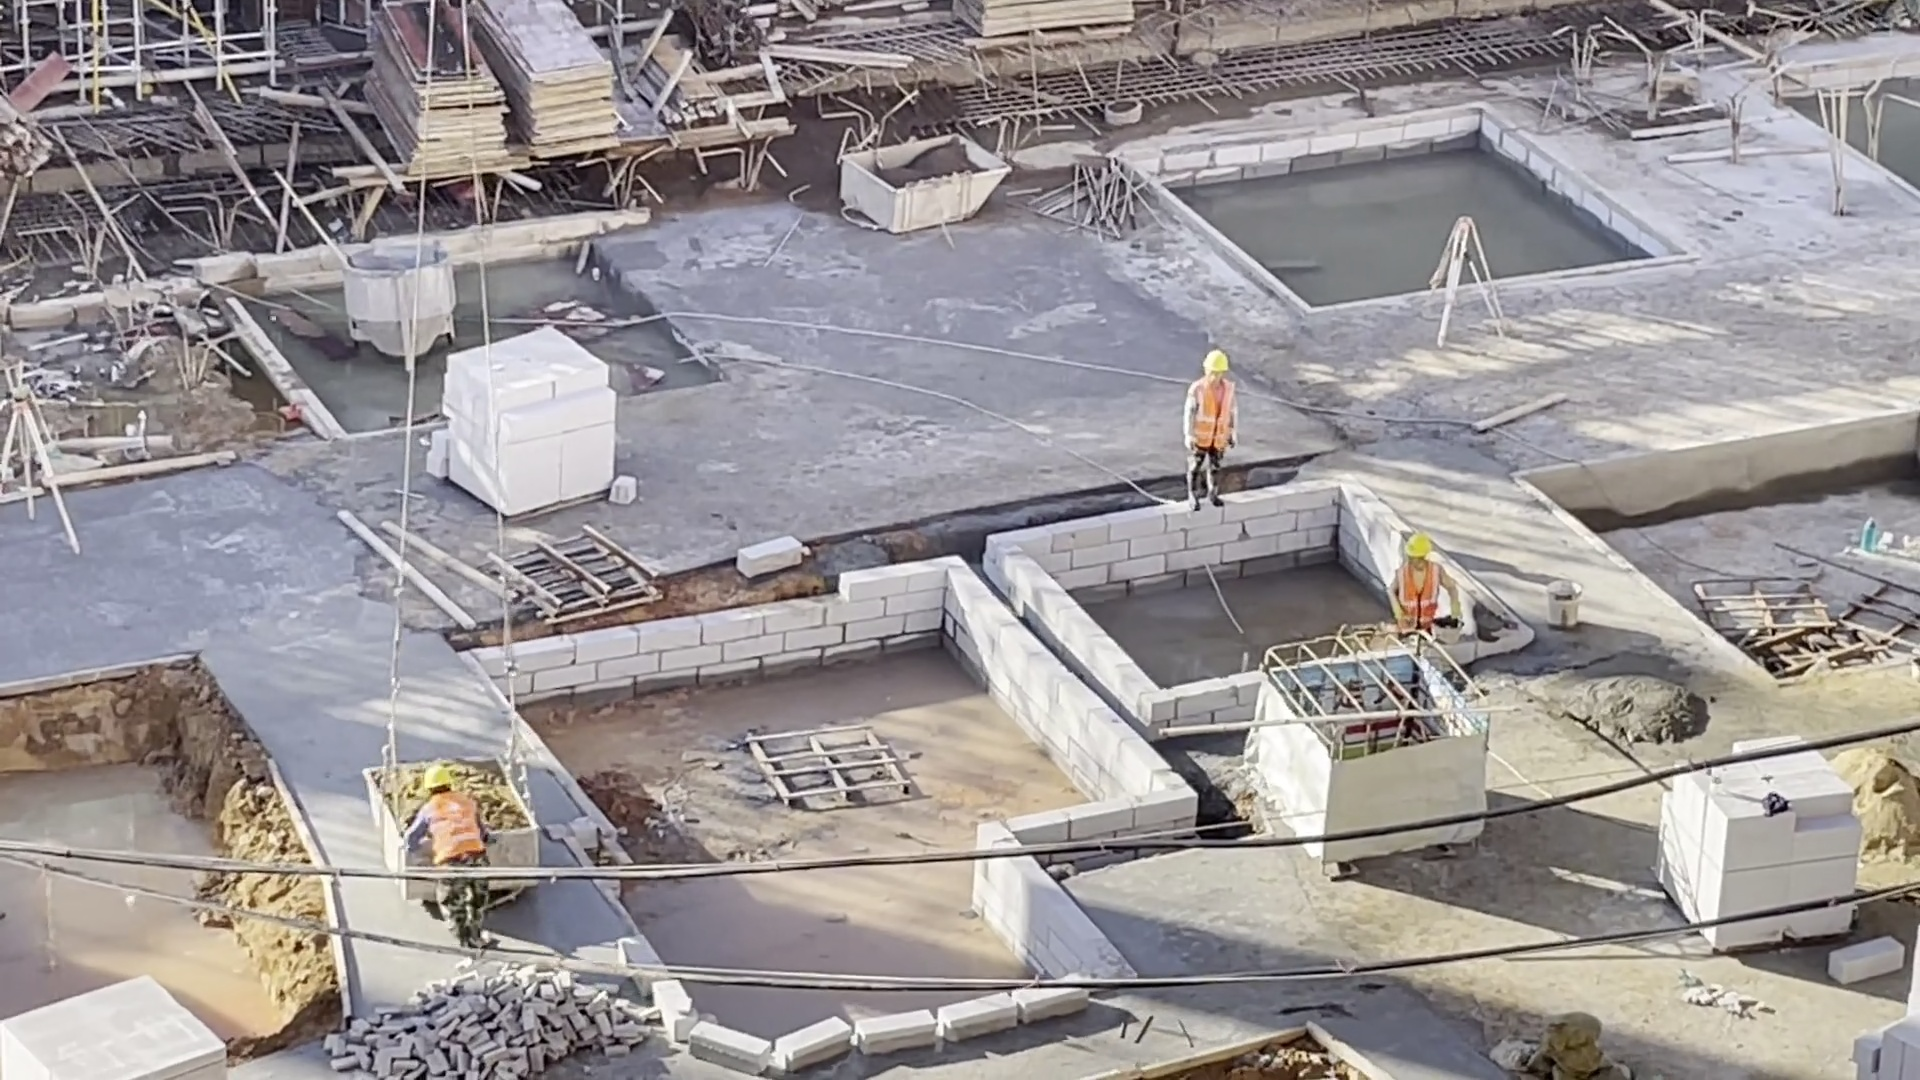board: (349, 4, 517, 183), (467, 1, 630, 160), (947, 2, 1143, 45)
brick: (442, 328, 623, 520), (6, 974, 229, 1080), (1653, 783, 1861, 897)
helmet: (419, 764, 454, 790), (1400, 532, 1434, 556), (1197, 352, 1232, 372)
hopper: (828, 132, 1017, 242), (343, 242, 455, 367)
person: (395, 763, 501, 866), (1181, 350, 1241, 513), (1387, 534, 1464, 637)
vest: (421, 793, 487, 861), (1187, 376, 1233, 452), (1394, 561, 1439, 628)
wood: (3, 93, 55, 187)
